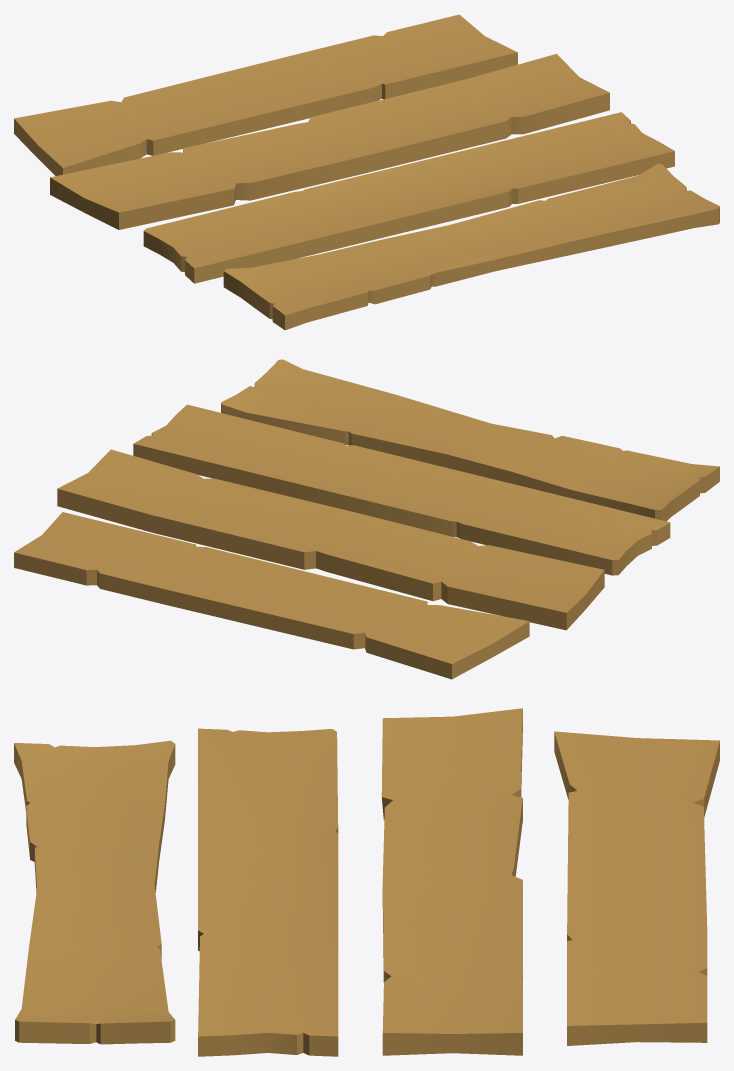
File: VarTabuas.fbx
3 renders of one model, top to bottom at view 1: azimuth 30°, elevation 25°; view 2: azimuth 150°, elevation 25°; view 3: azimuth 270°, elevation 25°, orthographic. The views are drawn at different scales.
Visible parts, largest first — view 1: TabuaV2, TabuaV3, TabuaV1, TabuaV4; view 2: TabuaV2, TabuaV3, TabuaV1, TabuaV4; view 3: TabuaV2, TabuaV3, TabuaV1, TabuaV4.
Boxes of the visible parts, box(x1,y1,x2,y2) form: TabuaV2: box(50, 53, 609, 229); TabuaV3: box(143, 112, 674, 283); TabuaV1: box(14, 14, 517, 175); TabuaV4: box(223, 164, 719, 330); TabuaV2: box(57, 449, 604, 630); TabuaV3: box(133, 404, 670, 575); TabuaV1: box(14, 512, 529, 679); TabuaV4: box(221, 359, 719, 521); TabuaV2: box(381, 708, 522, 1055); TabuaV3: box(198, 728, 338, 1056); TabuaV1: box(554, 731, 719, 1045); TabuaV4: box(14, 740, 175, 1044).
Bounding box in the file's own units: 203 × 9.21 × 187.
